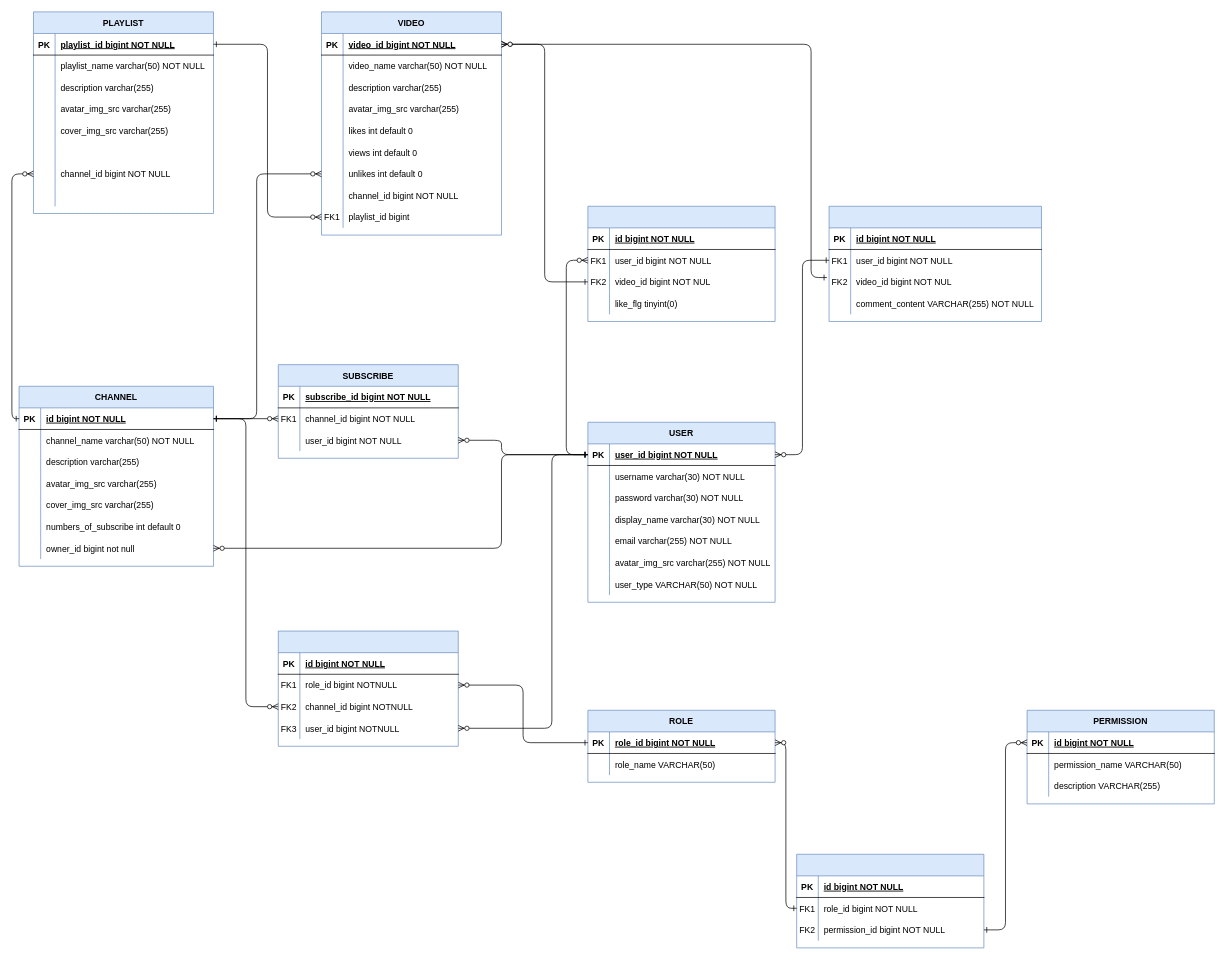
Some shapes in this 1226 by 960 pixel diagram are drawn without their labels. Each missing label, with the box of its shape:
ROLE_PERMISSION: (796, 854, 984, 948)
USER_COMMENT_VIDEO: (828, 206, 1041, 321)
USER_LIKE_VIDEO: (587, 206, 775, 321)
USER_ROLE_CHANNEL: (278, 630, 458, 746)
